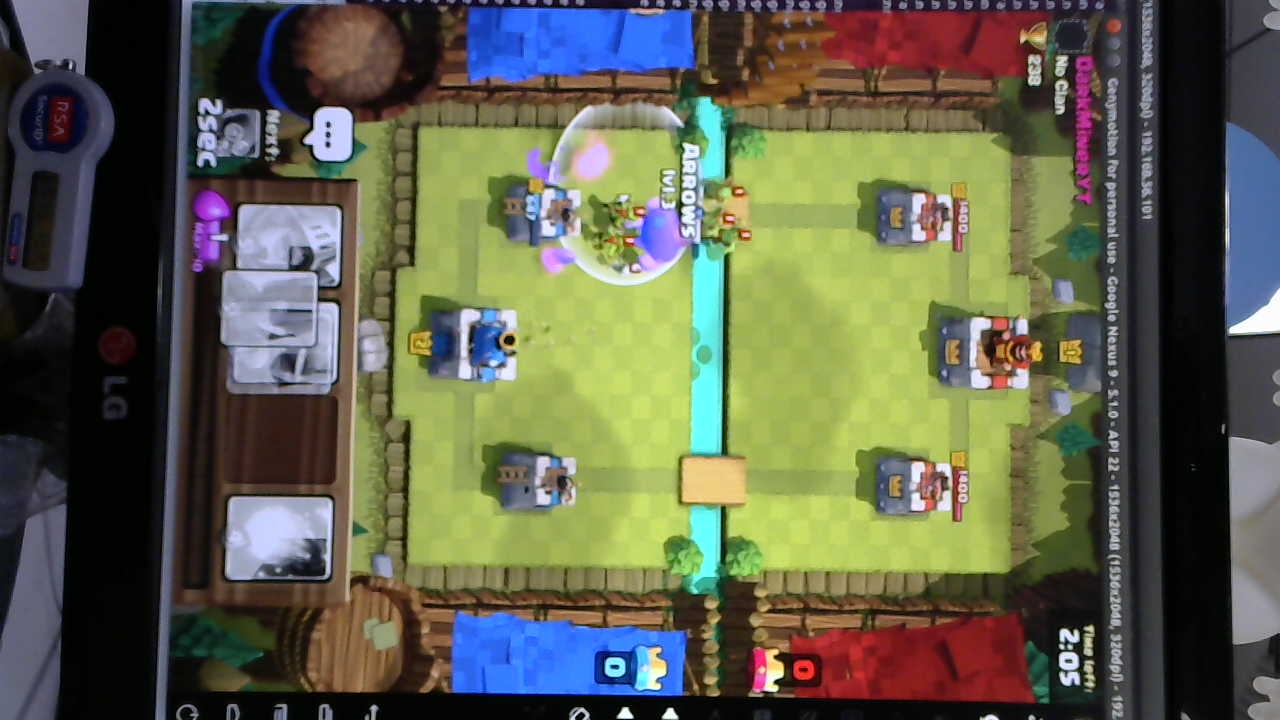arena: (493, 445, 575, 514), (510, 183, 586, 245)
earena: (868, 187, 955, 251), (866, 458, 951, 516)
eking: (937, 317, 1042, 393)
giant: (640, 194, 692, 274)
goblins: (590, 195, 651, 273)
king: (431, 306, 525, 385)
speargoblins: (700, 175, 745, 258)
